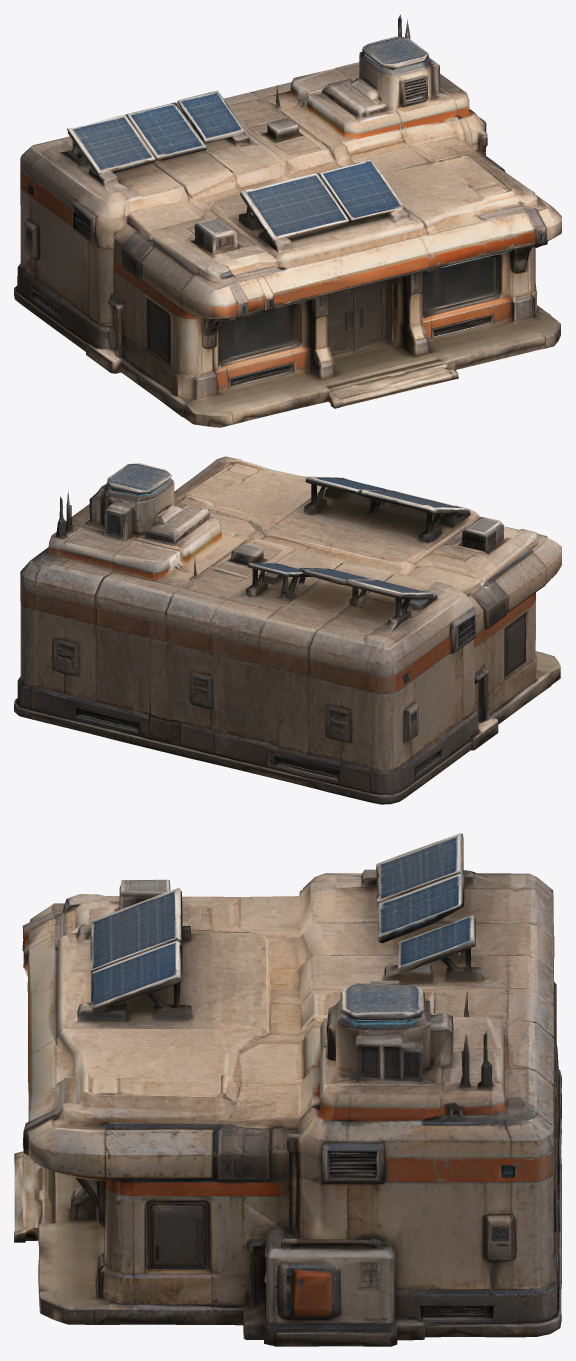
The model's file is dune-building-2.glb.
3 renders of one model, top to bottom at view 1: azimuth 30°, elevation 25°; view 2: azimuth 150°, elevation 25°; view 3: azimuth 270°, elevation 25°, orthographic. The views are drawn at different scales.
Parts seen in each view (by area): view 1: tripo_node_bef06b8a-fdca-4132-8d66-3459419505f5; view 2: tripo_node_bef06b8a-fdca-4132-8d66-3459419505f5; view 3: tripo_node_bef06b8a-fdca-4132-8d66-3459419505f5.
Part boxes in pixels (<box>): tripo_node_bef06b8a-fdca-4132-8d66-3459419505f5: <box>14,14,561,427</box>; tripo_node_bef06b8a-fdca-4132-8d66-3459419505f5: <box>14,456,561,804</box>; tripo_node_bef06b8a-fdca-4132-8d66-3459419505f5: <box>14,833,561,1346</box>.
Size of the model in its own units: 16 by 7.84 by 13.32.
1 material, 1 textured.
